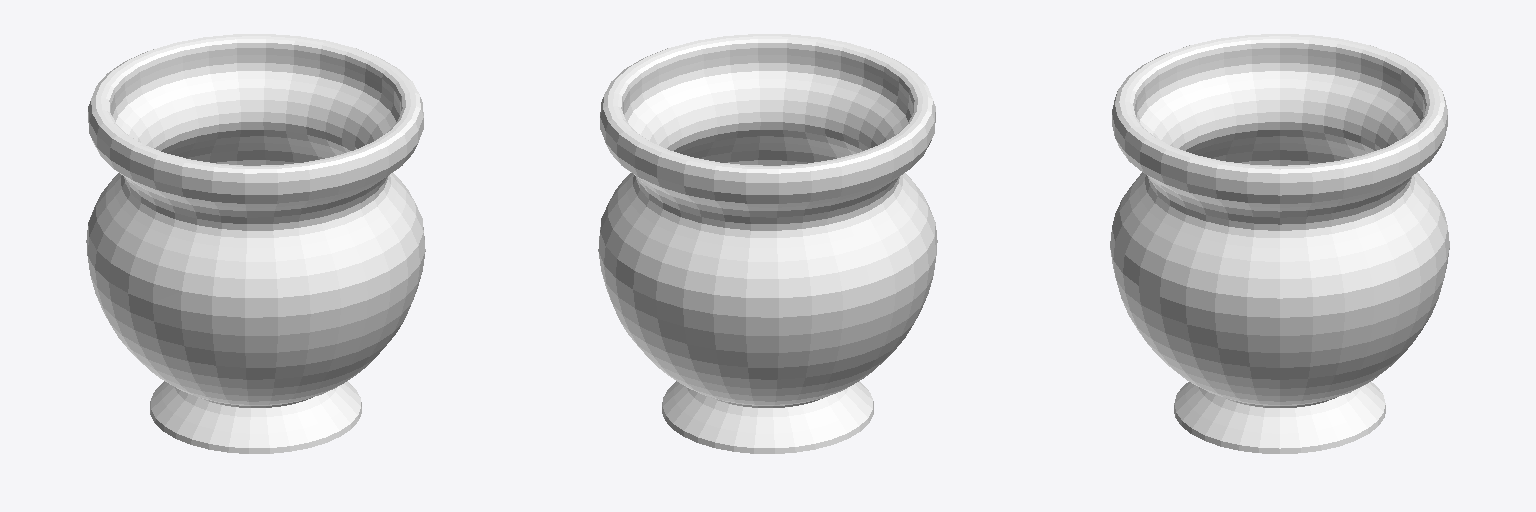
Rendered from Llum.obj.
The picture shows the model from 3 angles: view 1: azimuth 30°, elevation 25°; view 2: azimuth 150°, elevation 25°; view 3: azimuth 270°, elevation 25°; orthographic projection.
Parts seen in each view (by area): view 1: Llum; view 2: Llum; view 3: Llum.
Boxes of the visible parts, box(x1,y1,x2,y2) form: Llum: box(86, 34, 425, 453); Llum: box(598, 34, 937, 453); Llum: box(1110, 34, 1449, 453).
Bounding box in the file's own units: 0.101 × 0.1012 × 0.101.